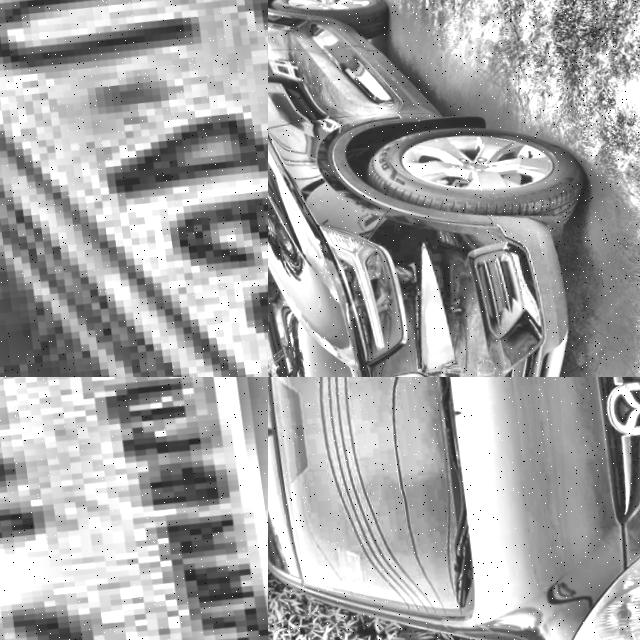license-plate: (0, 0, 268, 377), (0, 377, 268, 640)
